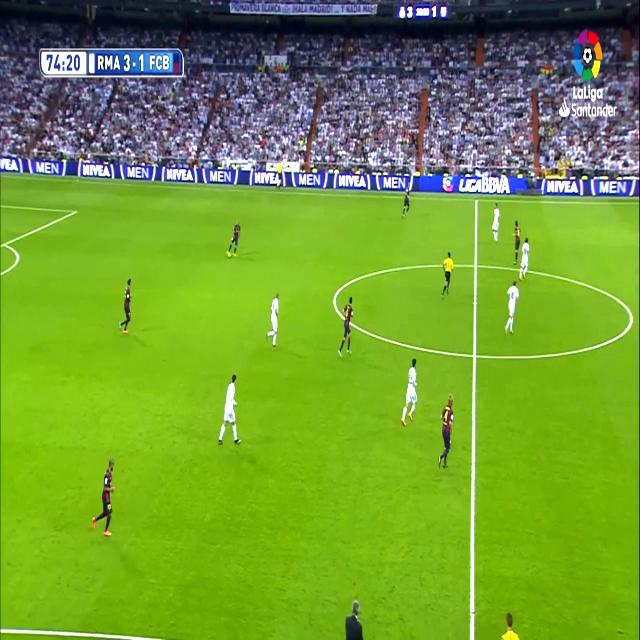bigarea_bottom_outter: (2, 235, 8, 251)
bigarea_top_inner: (72, 204, 78, 218)
halfcircle_bottom: (468, 340, 481, 369)
halfcircle_top: (471, 253, 481, 276)
midline_top_intersection: (473, 193, 481, 208)
